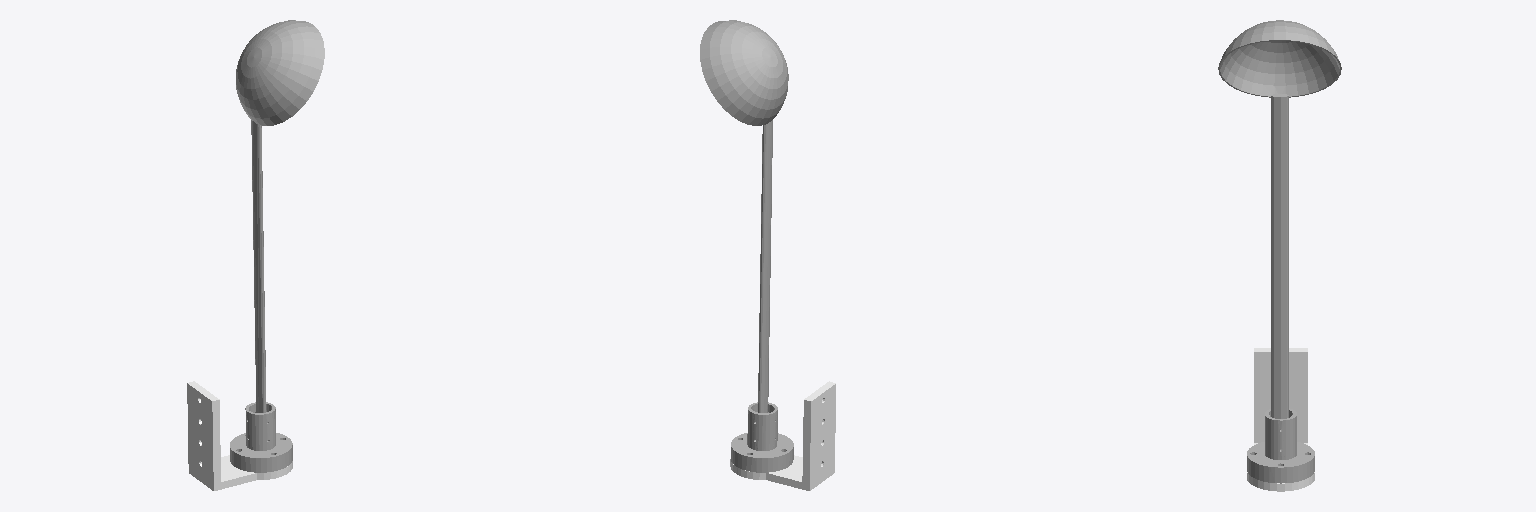
The robot description file, URDF, robot "spoon_metal_own":
<?xml version="1.0" encoding="utf-8"?>
<!-- This URDF was automatically created by SolidWorks to URDF Exporter! Originally created by [author] ([email redacted]) 
     Commit Version: 1.6.0-1-g15f4949  Build Version: 1.6.7594.29634
     For more information, please see http://wiki.ros.org/sw_urdf_exporter -->
<robot
  name="spoon_metal_own">
  <link
    name="spoon_base_link">
    <inertial>
      <origin
        xyz="-0.045836 -3.8109E-06 0.028802"
        rpy="0 0 0" />
      <mass
        value="0.068874" />
      <inertia
        ixx="8.2579E-05"
        ixy="-4.8961E-09"
        ixz="3.4903E-05"
        iyy="0.00012288"
        iyz="6.5831E-09"
        izz="7.4432E-05" />
    </inertial>
    <visual>
      <origin
        xyz="0 0 0"
        rpy="0 0 0" />
      <geometry>
        <mesh
          filename="package://spoon_metal_own/meshes/spoon_base_link.STL" />
      </geometry>
      <material
        name="">
        <color
          rgba="1 1 1 1" />
      </material>
    </visual>
    <collision>
      <origin
        xyz="0 0 0"
        rpy="0 0 0" />
      <geometry>
        <mesh
          filename="package://spoon_metal_own/meshes/spoon_base_link.STL" />
      </geometry>
    </collision>
  </link>
  <link
    name="spoon_body">
    <inertial>
      <origin
        xyz="-0.00041746 0.22889 0.14202"
        rpy="0 0 0" />
      <mass
        value="0.12138" />
      <inertia
        ixx="0.0014566"
        ixy="-7.3538E-11"
        ixz="2.3854E-12"
        iyy="0.00053013"
        iyz="-0.00066462"
        izz="0.00099762" />
    </inertial>
    <visual>
      <origin
        xyz="0 0 0"
        rpy="0 0 0" />
      <geometry>
        <mesh
          filename="package://spoon_metal_own/meshes/spoon_body.STL" />
      </geometry>
      <material
        name="">
        <color
          rgba="0.75294 0.75294 0.75294 1" />
      </material>
    </visual>
    <collision>
      <origin
        xyz="0 0 0"
        rpy="0 0 0" />
      <geometry>
        <mesh
          filename="package://spoon_metal_own/meshes/spoon_body.STL" />
      </geometry>
    </collision>
  </link>
  <joint
    name="spoon_joint"
    type="fixed">
    <origin
      xyz="0.0248 -0.00086523 0.4253"
      rpy="-2.2166 0 -1.5708" />
    <parent
      link="spoon_base_link" />
    <child
      link="spoon_body" />
    <axis
      xyz="0 0 0" />
  </joint>
</robot>

--- What the picture shows (computed from the rendered views, not written in the file) ---
The picture shows the robot from 3 angles, left to right: view 1: azimuth 30°, elevation 25°; view 2: azimuth 150°, elevation 25°; view 3: azimuth 270°, elevation 25°; orthographic projection.
Robot: spoon_metal_own — 2 links, 1 joints (1 fixed); root link spoon_base_link; default pose: all joints at 0.
Visible links, largest first — view 1: spoon_body, spoon_base_link; view 2: spoon_body, spoon_base_link; view 3: spoon_body, spoon_base_link.
Boxes of the visible links, x1,y1,x2,y2 form: spoon_body: (230,20,324,472); spoon_base_link: (187,381,292,490); spoon_body: (700,20,793,472); spoon_base_link: (730,381,835,490); spoon_body: (1218,20,1341,483); spoon_base_link: (1247,348,1314,491).
Size in the robot's own frame: 0.1297 by 0.1134 by 0.4756 metres.
Meshes: 2 distinct files referenced, 2 mesh visuals loaded (2 binary STL).